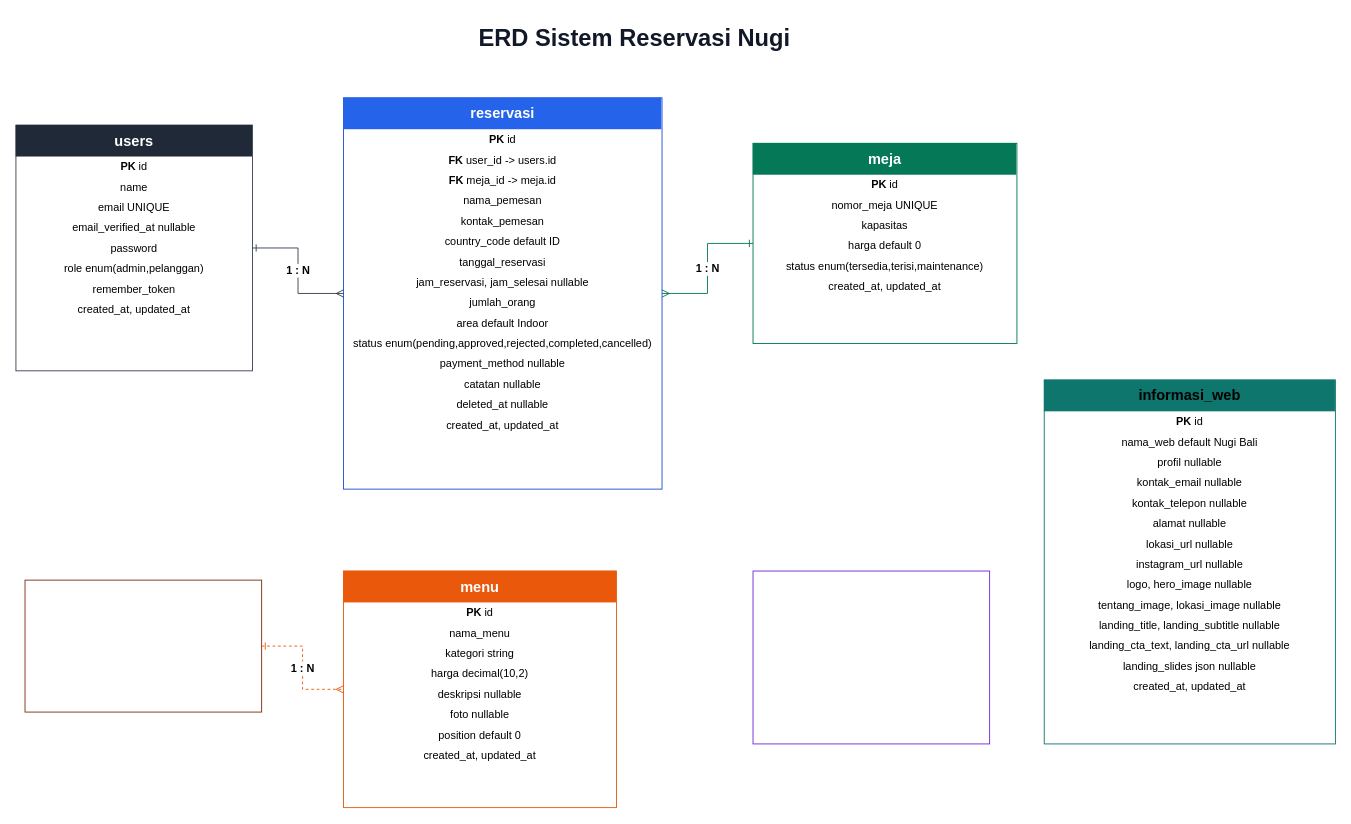
This 1351x824 diagram has some shape labels left out. Each missing label, with the box of its shape:
galeri PK id judul nullable foto deskripsi nullable created_at, updated_at: (752, 570, 990, 744)
menu_kategori PK id nama UNIQUE created_at, updated_at: (24, 579, 262, 712)
